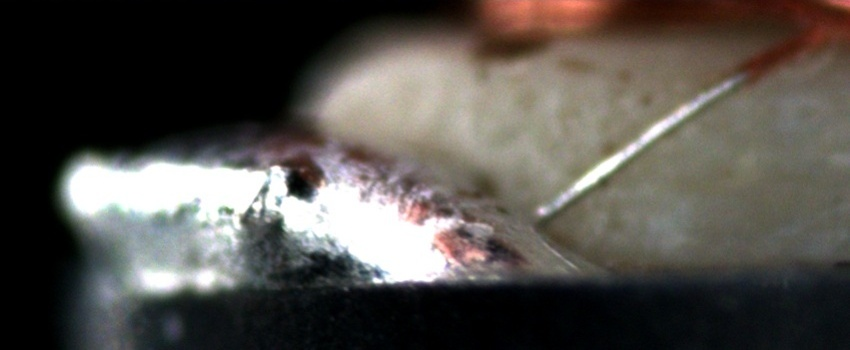TS: (529, 71, 747, 224)
